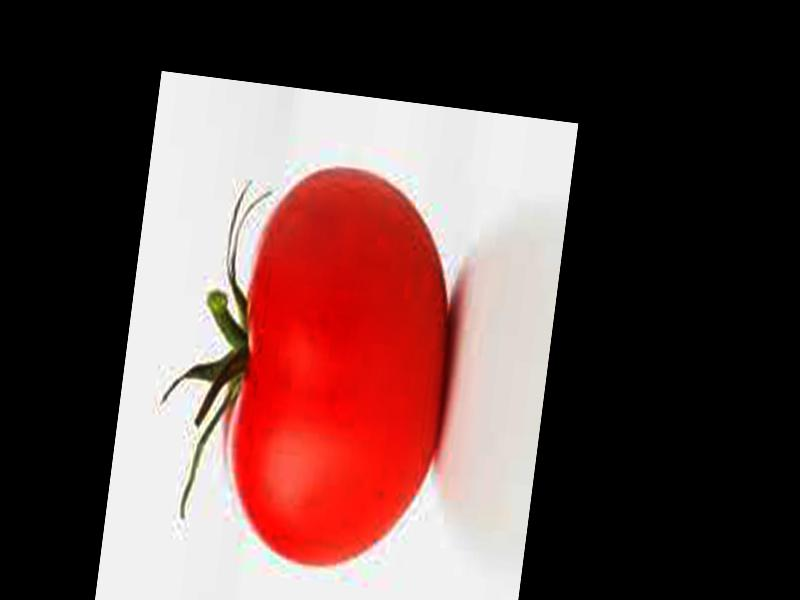Tomato: (215, 160, 469, 579)
